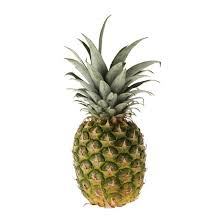pineapple: (72, 114, 148, 211)
